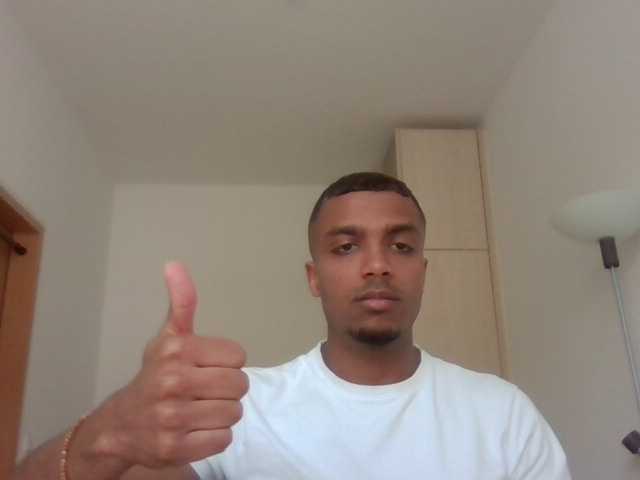yes: (92, 253, 258, 473)
